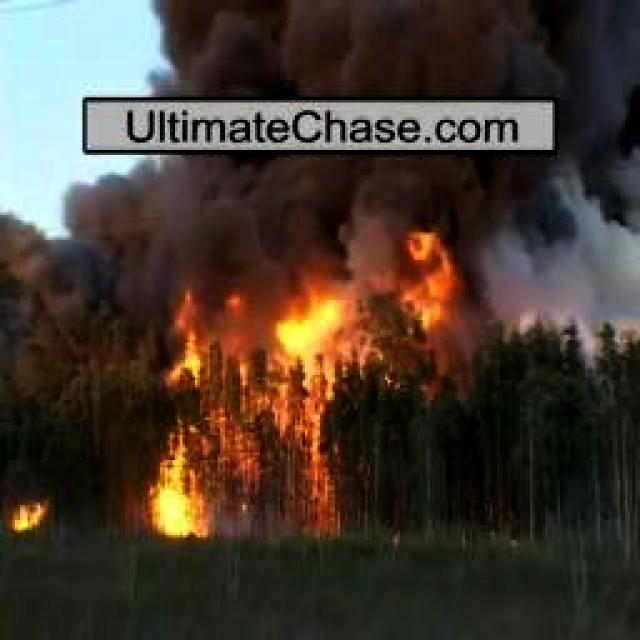fire: (140, 292, 344, 544), (393, 216, 459, 380), (11, 496, 47, 532)
